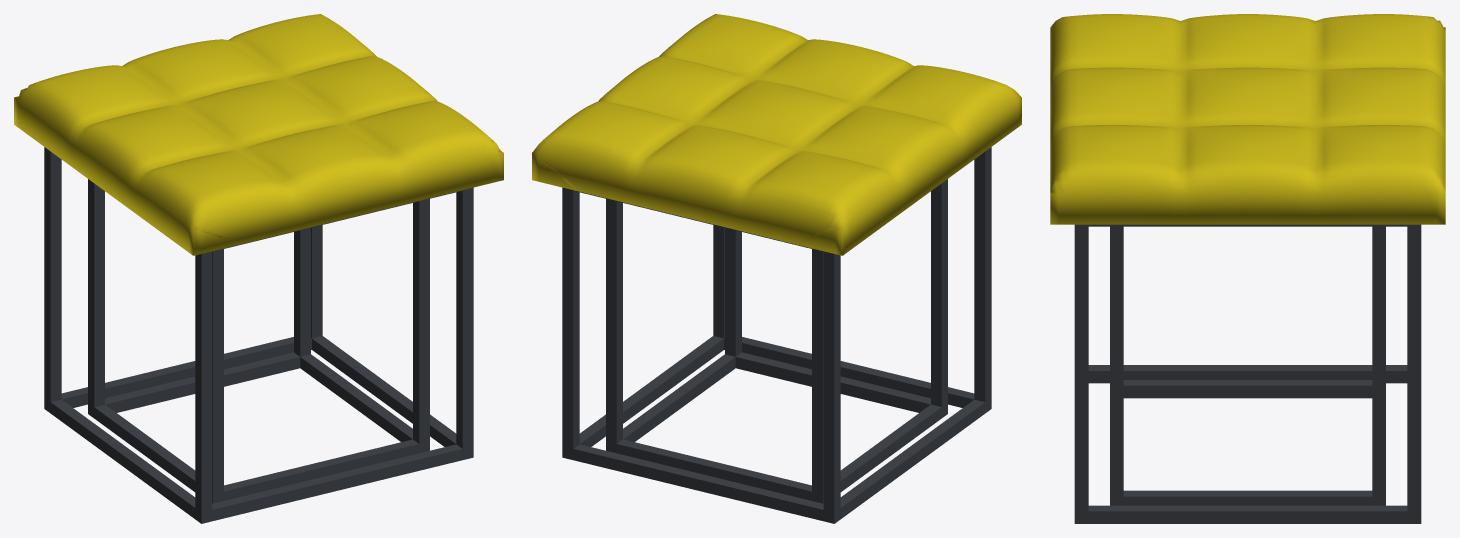
The model's file is puf.glb.
3 views of the same model, side by side, from view 1: azimuth 30°, elevation 25°; view 2: azimuth 150°, elevation 25°; view 3: azimuth 270°, elevation 25° (orthographic). The views are drawn at different scales.
Visible parts, largest first — view 1: lid, s1; view 2: lid, s1; view 3: lid, s1.
Part boxes in pixels (x1,y1,x2,y2): lid: (14,14,503,503); s1: (44,147,502,523); lid: (532,14,1021,503); s1: (535,147,991,523); lid: (1050,14,1445,505); s1: (1074,224,1421,523).
Bounding box in the file's own units: 0.428 × 0.436 × 0.428.
